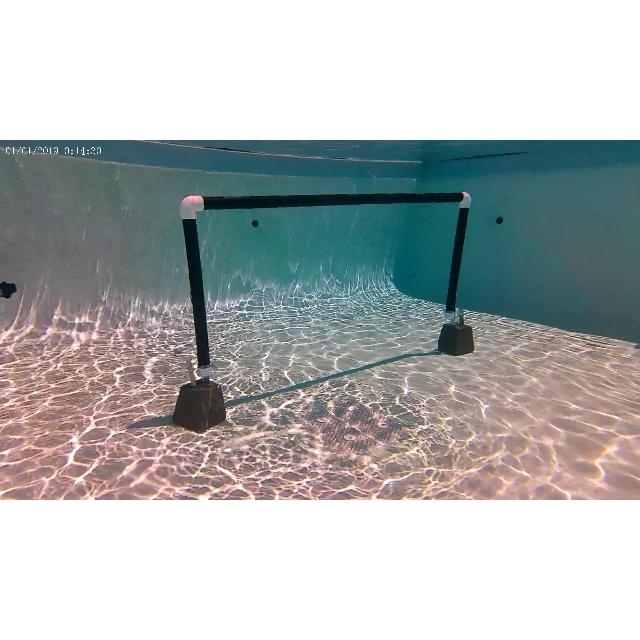prequal gate: (180, 191, 472, 377)
prequal gate leg l: (179, 192, 225, 380)
prequal gate leg r: (442, 190, 471, 322)
